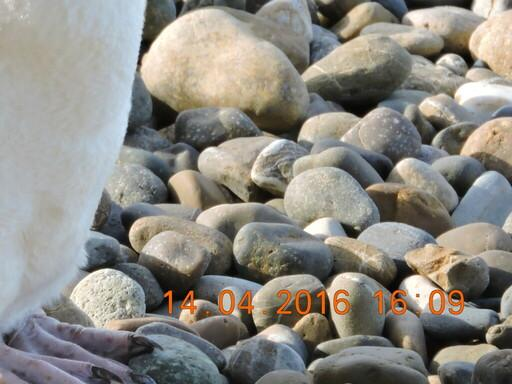Southern Rockhopper Penguin: (0, 0, 233, 383)
